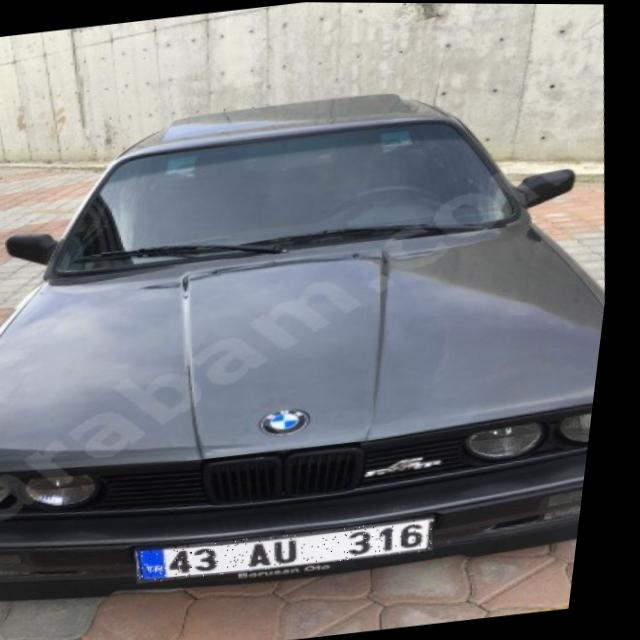license_plate: (147, 514, 449, 585)
